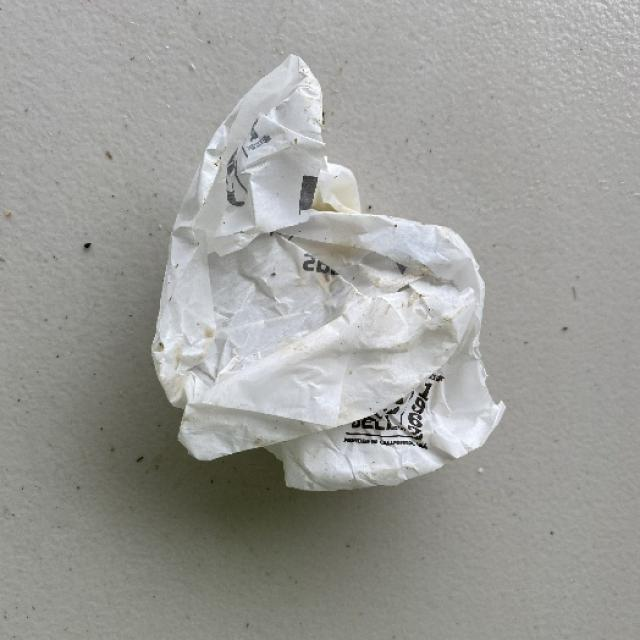inorganic: (149, 58, 513, 495)
